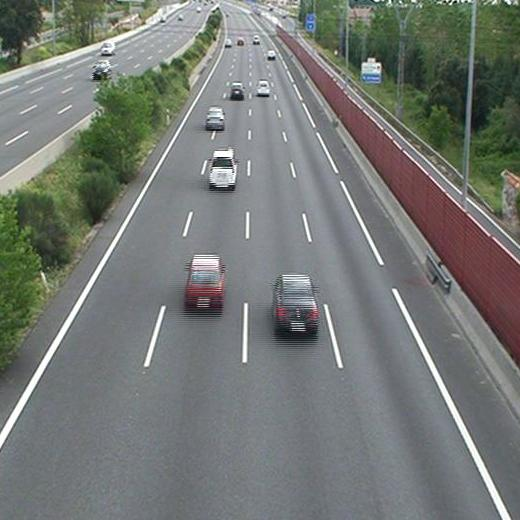car: (274, 276, 316, 331), (185, 255, 223, 306), (208, 151, 237, 185), (206, 108, 224, 129), (256, 80, 270, 95), (230, 84, 245, 97), (266, 49, 276, 58), (252, 35, 261, 45), (237, 37, 245, 47), (224, 39, 232, 48)
